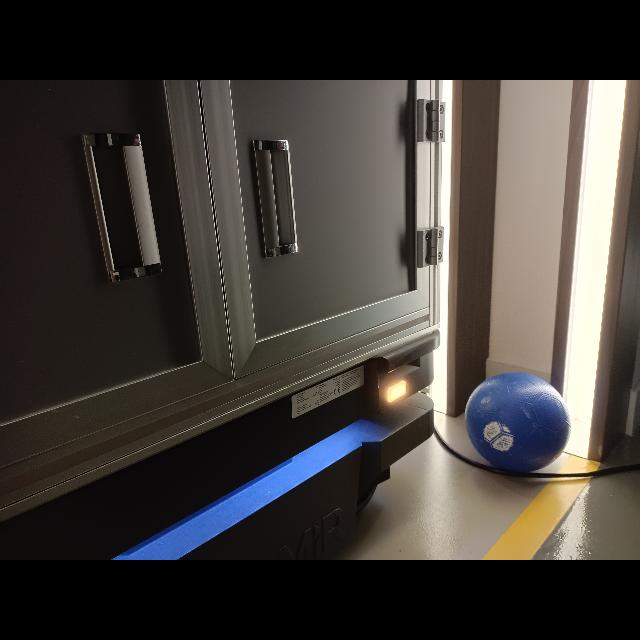B: (464, 372, 570, 476)
